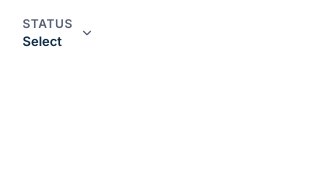
Scenario: OptionMenu counts › shows how many match, but leaves out a zero
This screenshot has width=332, height=172.
Click the button "Status Select". click: [58, 33]
box: [12,12,104,54]
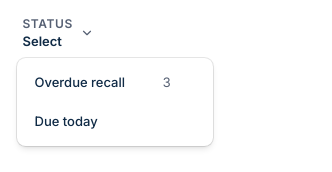
Result: the menu item "Overdue recall 3" is shown at [34,74,171,90]
Result: the menu item "Due today" is shown at [34,113,98,129]
